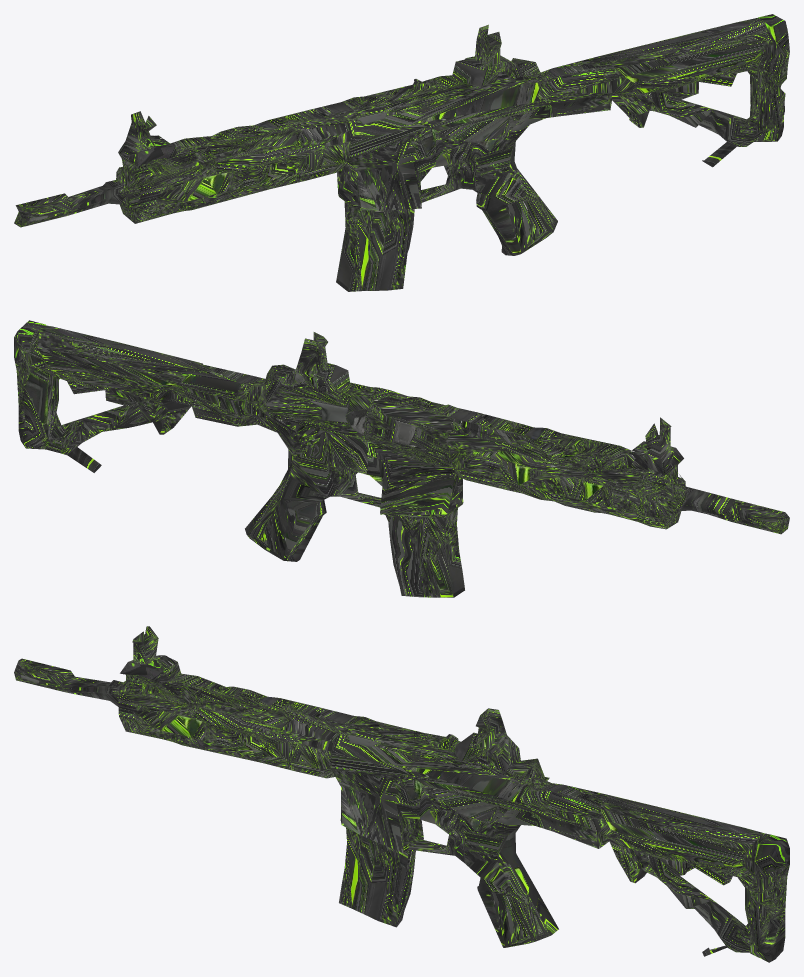
Rendered from gun_rifle_lo.glb.
The picture shows the model from 3 angles, top to bottom: view 1: azimuth 30°, elevation 25°; view 2: azimuth 150°, elevation 25°; view 3: azimuth 330°, elevation 25°; orthographic projection.
Parts seen in each view (by area): view 1: Mesh_0; view 2: Mesh_0; view 3: Mesh_0.
Part boxes in pixels (x1,y1,x2,y2): Mesh_0: (14, 14, 789, 291); Mesh_0: (14, 320, 789, 597); Mesh_0: (14, 626, 789, 962).
Bounding box in the file's own units: 1.9 × 0.556 × 0.1486.
Materials: 1 (1 with a texture image).
